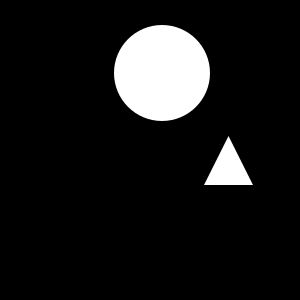rectangle: (114, 25, 210, 121)
triangle: (204, 136, 253, 185)
